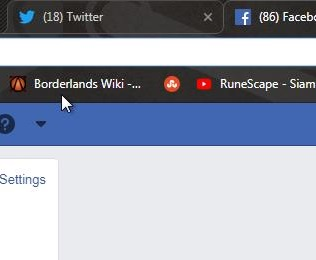cursor: (54, 89, 80, 118)
